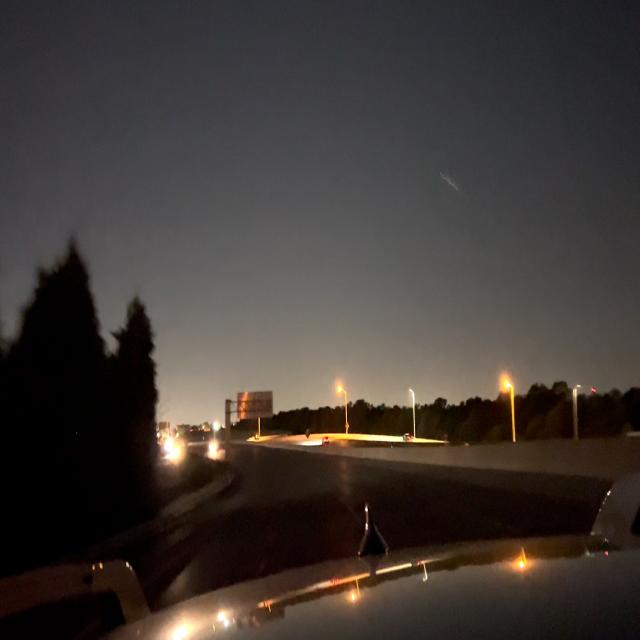back-of-sign: (238, 390, 272, 418)
